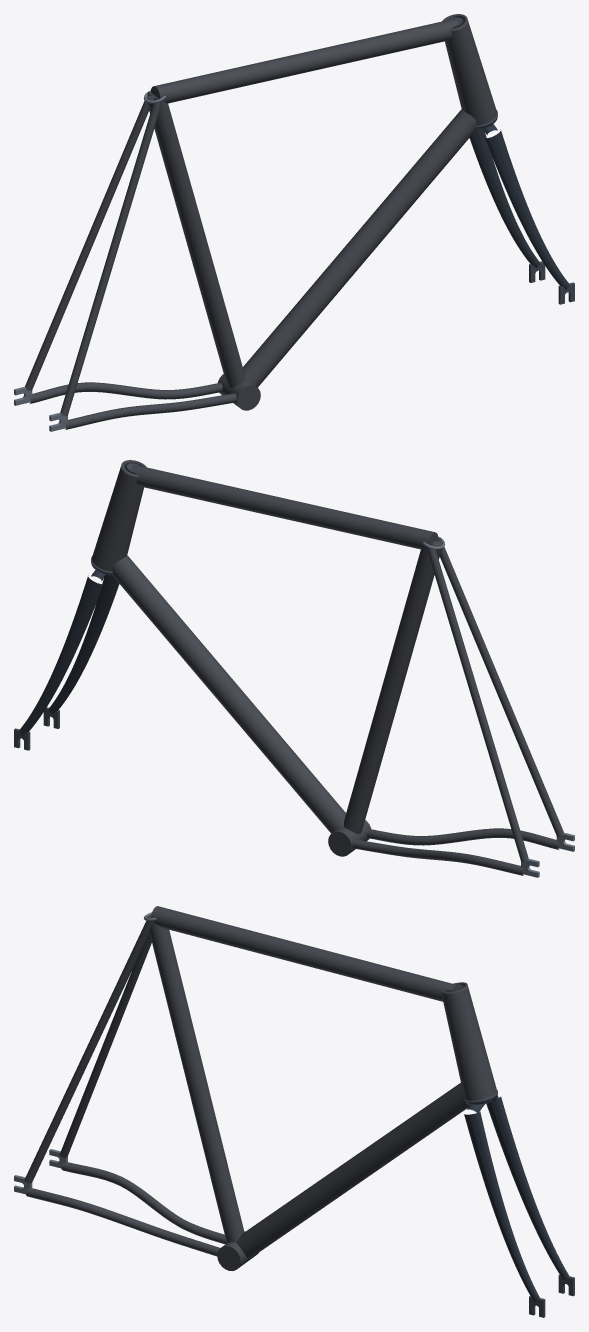
Rendered from skream-magnum-xl.glb.
3 renders of one model, top to bottom at view 1: azimuth 30°, elevation 25°; view 2: azimuth 150°, elevation 25°; view 3: azimuth 330°, elevation 25°, orthographic.
Visible parts, largest first — view 1: paint_down, paint_top, paint_seat, paint_head, paint_seatstay_1, paint_seatstay_-1, fork_blade_1, fork_blade_-1, paint_chainstay_-1, paint_chainstay_1, paint_bottom_bracket; view 2: paint_down, paint_top, paint_seat, paint_head, paint_seatstay_-1, paint_seatstay_1, fork_blade_-1, fork_blade_1, paint_chainstay_1, paint_chainstay_-1, paint_bottom_bracket; view 3: paint_down, paint_seat, paint_top, paint_head, paint_seatstay_1, fork_blade_1, fork_blade_-1, paint_seatstay_-1, paint_chainstay_1, paint_chainstay_-1, paint_bottom_bracket.
Part boxes in pixels (x1,y1,x2,y2): paint_down: (243, 109, 476, 387); paint_top: (150, 19, 458, 103); paint_seat: (146, 94, 244, 388); paint_head: (442, 14, 496, 125); paint_seatstay_1: (60, 97, 162, 416); paint_seatstay_-1: (25, 91, 153, 390); fork_blade_1: (485, 129, 569, 289); fork_blade_-1: (469, 128, 539, 267); paint_chainstay_-1: (29, 382, 222, 403); paint_chainstay_1: (65, 393, 236, 429); paint_bottom_bracket: (217, 374, 260, 410); paint_down: (112, 555, 345, 833); paint_top: (130, 465, 438, 549); paint_seat: (344, 540, 442, 834); paint_head: (92, 460, 146, 571); paint_seatstay_-1: (426, 543, 528, 862); paint_seatstay_1: (435, 537, 563, 836); fork_blade_-1: (19, 575, 103, 735); fork_blade_1: (49, 574, 119, 713); paint_chainstay_1: (366, 828, 559, 849); paint_chainstay_-1: (352, 839, 523, 875); paint_bottom_bracket: (328, 820, 371, 856); paint_down: (236, 1083, 469, 1258); paint_seat: (146, 914, 244, 1242); paint_top: (150, 906, 458, 1001); paint_head: (441, 982, 496, 1100); paint_seatstay_1: (24, 916, 152, 1183); fork_blade_1: (464, 1111, 539, 1301); fork_blade_-1: (486, 1096, 569, 1280); paint_seatstay_-1: (60, 933, 151, 1157); paint_chainstay_1: (26, 1188, 220, 1256); paint_chainstay_-1: (61, 1162, 226, 1244); paint_bottom_bracket: (217, 1231, 258, 1270).
Size of the model in its own units: 1.03 by 0.6278 by 0.1397.
